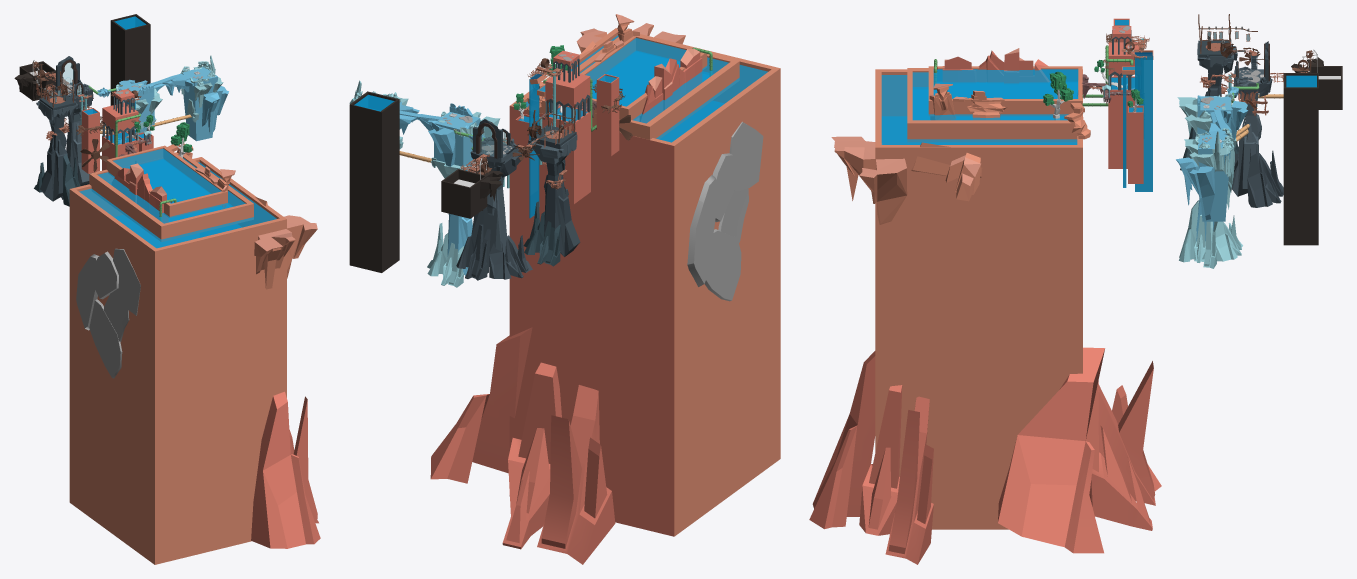
File: TimDoetOokIsArt.fbx
3 renders of one model, left to right at view 1: azimuth 30°, elevation 25°; view 2: azimuth 150°, elevation 25°; view 3: azimuth 270°, elevation 25°, orthographic. The views are drawn at different scales.
Visible parts, largest first — view 1: Level, pasted__polySurface4702, pasted__polySurface4891, Water7, Water9, Water8; view 2: Level, pasted__polySurface4023, pasted__polySurface4891, Water9, Water7, Water8, Waterval_2; view 3: Level, pasted__polySurface4023, pasted__polySurface4702, Water8, Water9, Water7, Waterval_2.
Boxes of the visible parts, x1,y1,x2,y2 form: Level: (14, 14, 317, 564); pasted__polySurface4702: (251, 391, 320, 548); pasted__polySurface4891: (76, 248, 140, 378); Water7: (98, 155, 245, 223); Water9: (113, 148, 221, 203); Water8: (79, 162, 276, 248); Level: (349, 14, 780, 536); pasted__polySurface4023: (430, 327, 615, 564); pasted__polySurface4891: (687, 121, 763, 301); Water9: (585, 38, 686, 106); Water7: (544, 51, 728, 123); Water8: (526, 35, 767, 142); Waterval_2: (529, 74, 539, 218); Level: (831, 14, 1342, 529); pasted__polySurface4023: (998, 347, 1161, 553); pasted__polySurface4702: (809, 351, 933, 564); Water8: (881, 75, 1077, 144); Water9: (933, 69, 1078, 98); Water7: (912, 72, 1077, 120); Waterval_2: (1135, 56, 1152, 191).
Bounding box in the file's own units: 1014 × 1812 × 1830.
